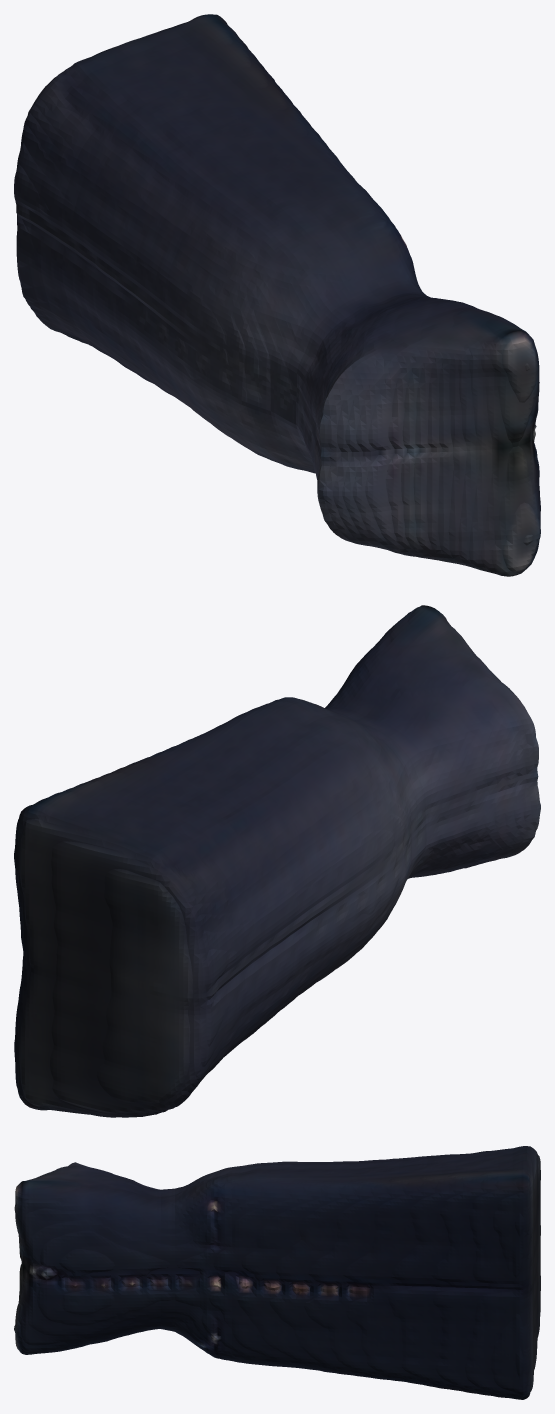
3 renders of one model, top to bottom at view 1: azimuth 30°, elevation 25°; view 2: azimuth 150°, elevation 25°; view 3: azimuth 270°, elevation 25°, orthographic. The views are drawn at different scales.
Size of the model in its own units: 0.3649 by 0.47 by 1.01.
